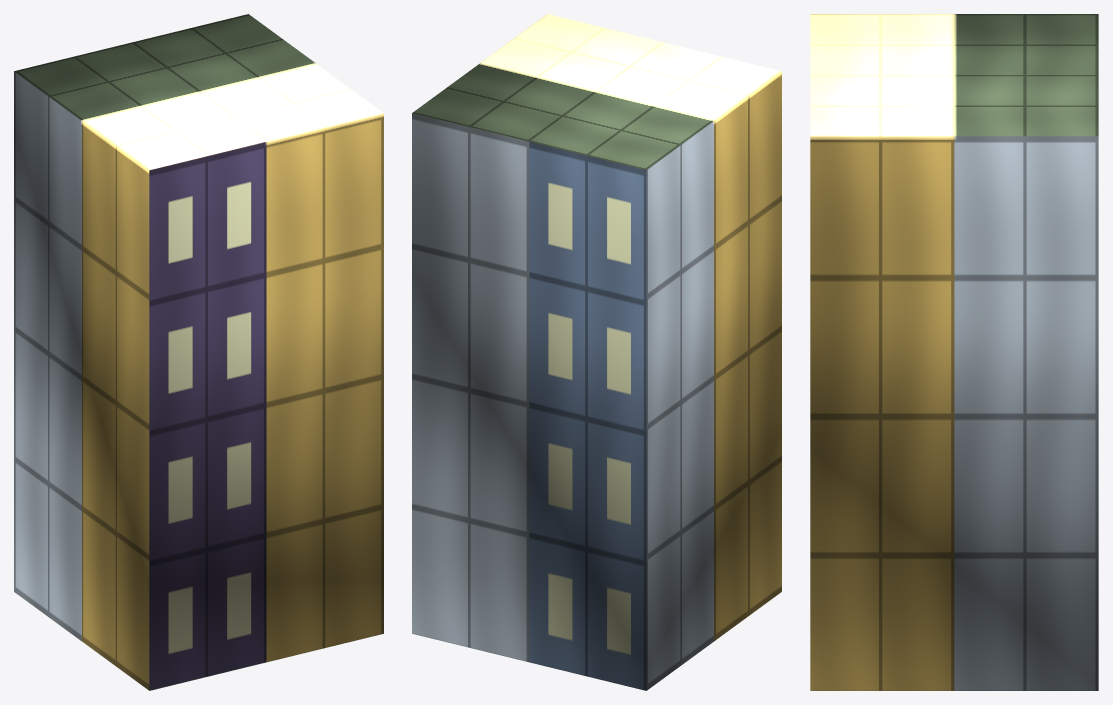
File: building_a.glb
The picture shows the model from 3 angles, left to right: view 1: azimuth 30°, elevation 25°; view 2: azimuth 150°, elevation 25°; view 3: azimuth 270°, elevation 25°; orthographic projection. The views are drawn at different scales.
Visible parts, largest first — view 1: col; view 2: col; view 3: col.
Part boxes in pixels (x1=…): col: x1=14, y1=14, x2=383, y2=690; col: x1=412, y1=14, x2=781, y2=690; col: x1=810, y1=14, x2=1098, y2=690.
Size of what is drawn, in the model's own units: 4.19 by 8.9 by 4.19.
1 material, 1 textured.
